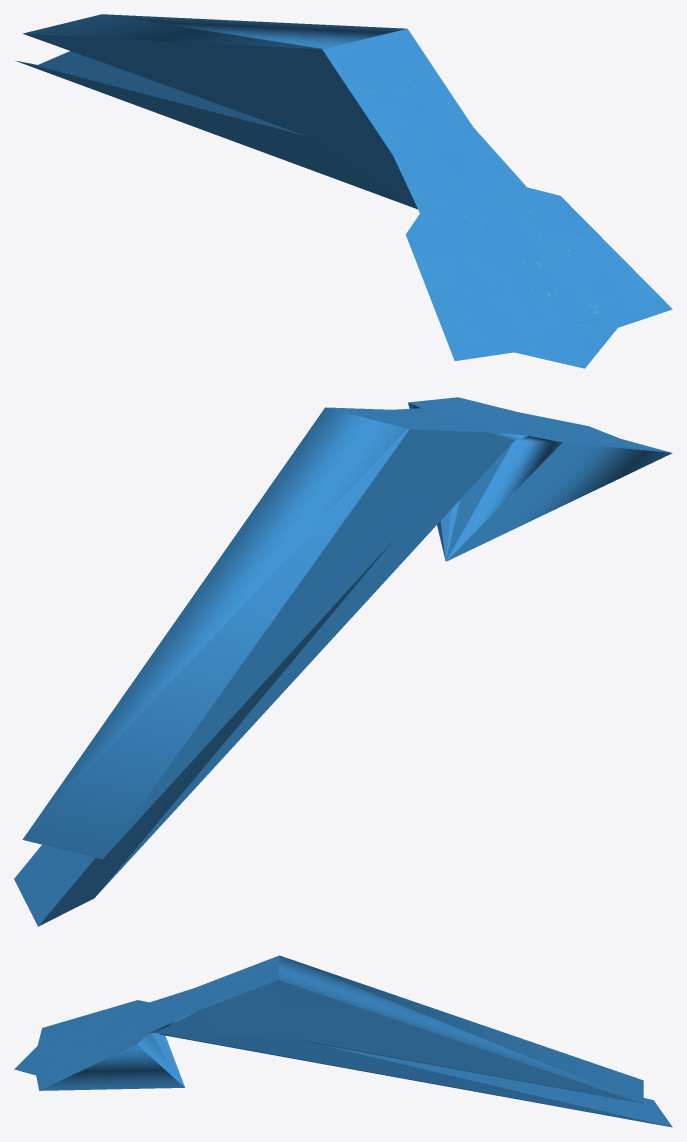
File: cola_pajaro.obj
3 views of the same model, one above another, from view 1: azimuth 30°, elevation 25°; view 2: azimuth 150°, elevation 25°; view 3: azimuth 270°, elevation 25° (orthographic). The views are drawn at different scales.
Parts seen in each view (by area): view 1: lowpoly_bird.003; view 2: lowpoly_bird.003; view 3: lowpoly_bird.003.
Boxes of the visible parts, bbox=[...] form: lowpoly_bird.003: bbox=[15, 14, 672, 368]; lowpoly_bird.003: bbox=[14, 397, 672, 926]; lowpoly_bird.003: bbox=[14, 955, 672, 1127].
Size of the model in its own units: 1.23 by 1.45 by 5.4.
1 material, 1 textured.
